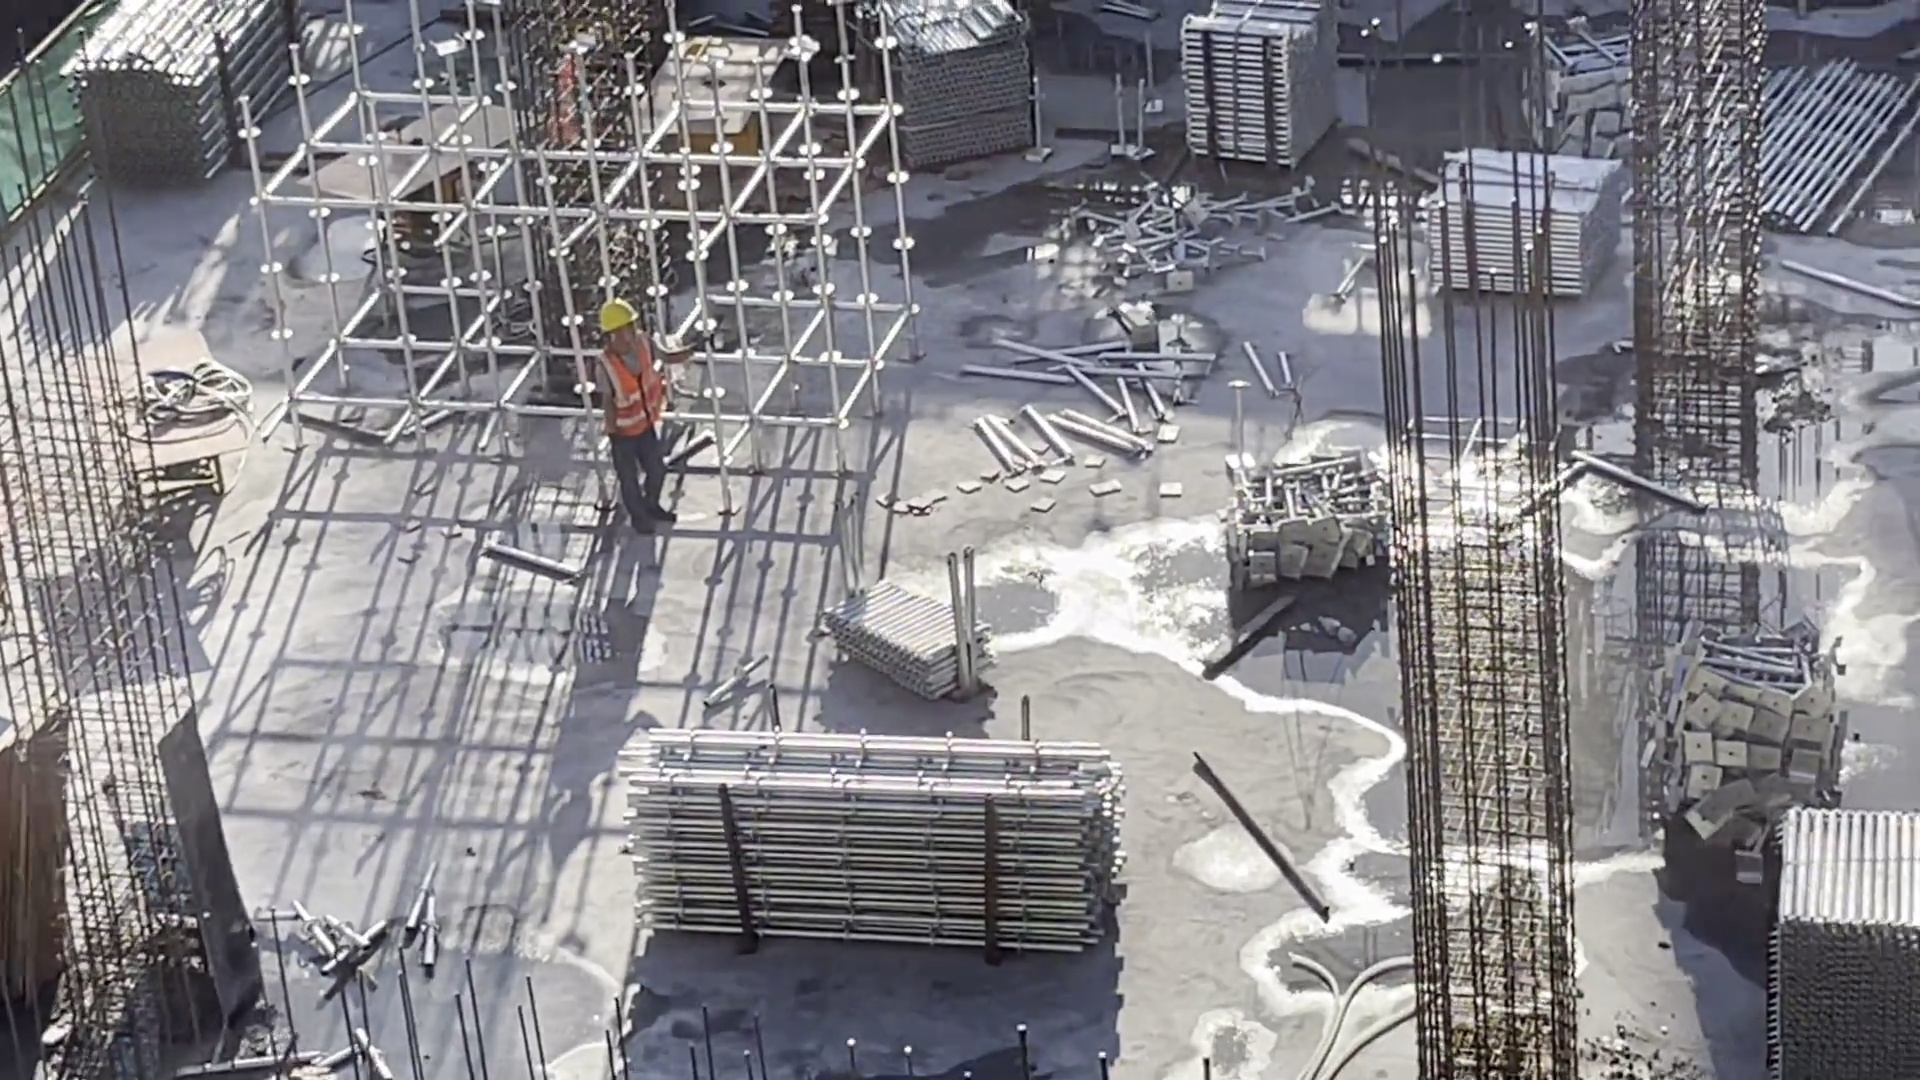board: (1, 705, 87, 1005)
cutter: (300, 87, 543, 265), (71, 317, 284, 509), (603, 34, 807, 197)
helmet: (601, 297, 644, 337)
person: (596, 297, 686, 530)
scaffold: (613, 728, 1118, 964), (1634, 636, 1844, 859), (1766, 803, 1918, 1080), (72, 1, 256, 203), (1173, 5, 1366, 166), (1421, 164, 1630, 307), (1202, 436, 1385, 589), (864, 1, 1007, 194), (1740, 76, 1907, 238), (830, 565, 1014, 703), (1520, 23, 1663, 183), (1115, 178, 1262, 293)
vest: (587, 340, 667, 434)
